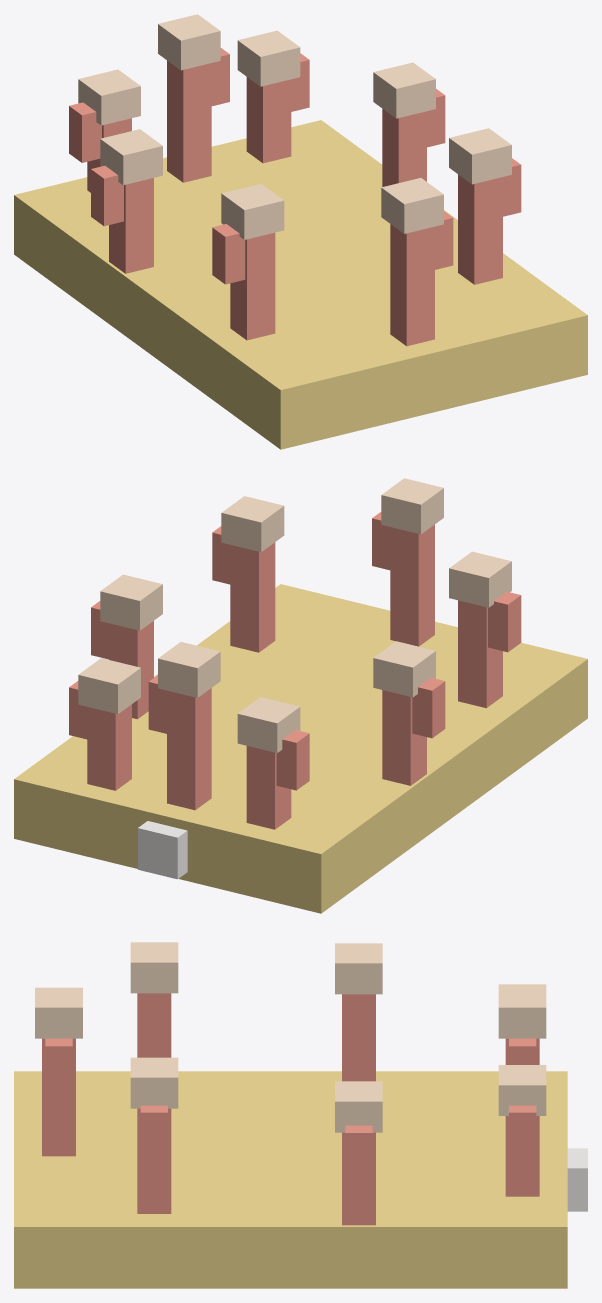
Rendered from coroa_coral.glb.
3 views of the same model, one above another, from view 1: azimuth 30°, elevation 25°; view 2: azimuth 150°, elevation 25°; view 3: azimuth 270°, elevation 25° (orthographic). The views are drawn at different scales.
Parts seen in each view (by area): view 1: coroa_coral; view 2: coroa_coral; view 3: coroa_coral.
Boxes of the visible parts, x1,y1,x2,y2 form: coroa_coral: [14, 14, 587, 449]; coroa_coral: [14, 478, 587, 913]; coroa_coral: [14, 942, 587, 1288].
Bounding box in the file's own units: 0.6 × 0.345 × 0.842.
